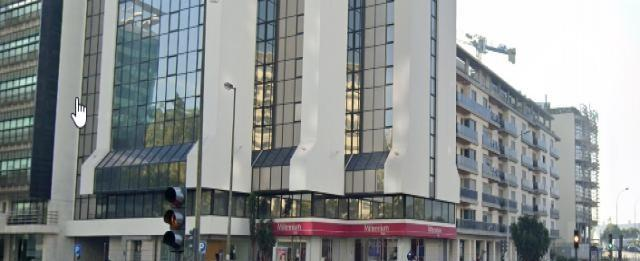yellow_light: (163, 186, 185, 252), (574, 230, 579, 248)
